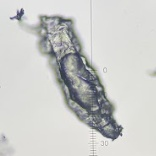microplastic: (9, 8, 124, 141)
